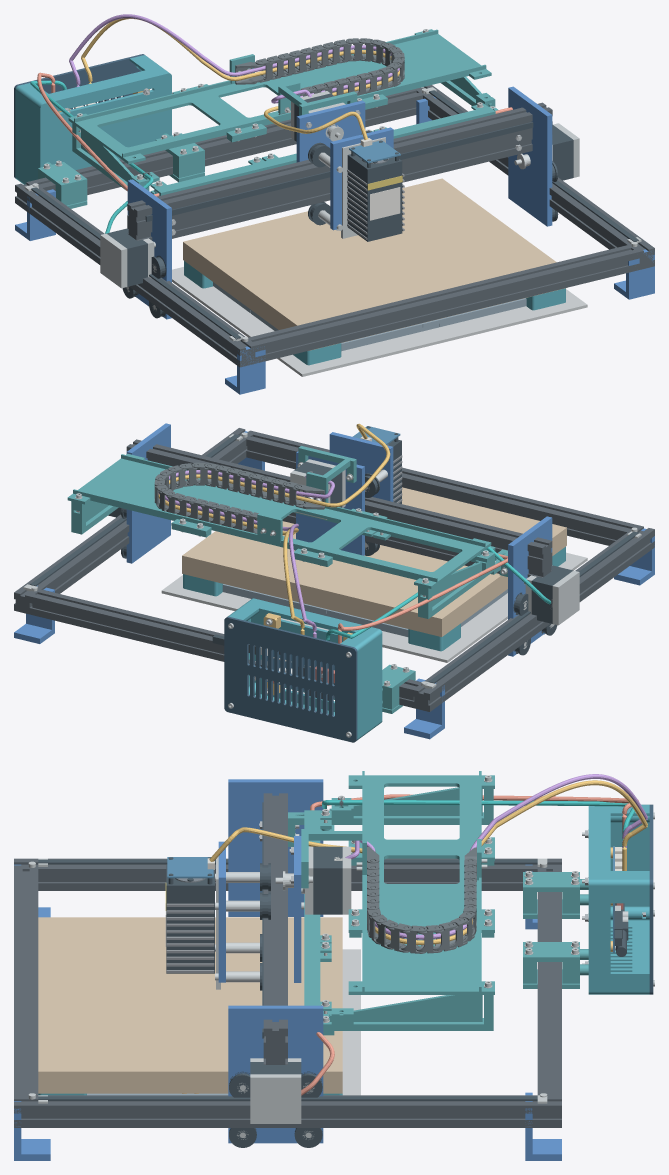
Rendered from assembly-a.glb.
The picture shows the model from 3 angles, top to bottom: view 1: azimuth 30°, elevation 25°; view 2: azimuth 150°, elevation 25°; view 3: azimuth 270°, elevation 25°; orthographic projection. The views are drawn at different scales.
Parts seen in each view (by area): view 1: Material exemplu — 20 mm, Traversă fixă (×2), Traversă mobilă X, 01_carcasa_corp, Șină longitudinală (×2), Bază necombustibilă — reprezentare de poziționare, Placă laterală a traversei (×2), Jgheab X · 1, Jgheab X · 3, Jgheab X · 2, Picior original — aproximat (×3), Motor Y1 (×2) (+22 smaller); view 2: Material exemplu — 20 mm, 02_carcasa_capac, Traversă fixă (×2), Șină longitudinală (×2), Traversă mobilă X, 01_carcasa_corp, Jgheab X · 1, Jgheab X · 3, Placă laterală a traversei (×2), Jgheab X · 2, Bază necombustibilă — reprezentare de poziționare, Consolă nervurată a traversei (×2) (+16 smaller); view 3: Material exemplu — 20 mm, Șină longitudinală (×2), Placă laterală a traversei (×2), Traversă fixă (×2), 01_carcasa_corp, Consolă nervurată a traversei (×2), Jgheab X · 3, Traversă mobilă X, Jgheab X · 2, Jgheab X · 1, Curea Y — traseu fix (×2), Colier demontabil pe profil fix (×2) (+16 smaller).
Part boxes in pixels (x1,y1,x2,y2): Material exemplu — 20 mm: (183, 178, 565, 350); Traversă fixă (×2): (32, 89, 637, 362); Traversă mobilă X: (127, 102, 552, 240); 01_carcasa_corp: (15, 55, 171, 184); Șină longitudinală (×2): (15, 85, 654, 367); Bază necombustibilă — reprezentare de poziționare: (172, 267, 587, 376); Placă laterală a traversei (×2): (127, 86, 552, 319); Jgheab X · 1: (68, 88, 249, 164); Jgheab X · 3: (323, 29, 491, 104); Jgheab X · 2: (190, 54, 370, 134); Picior original — aproximat (×3): (27, 189, 654, 394); Motor Y1 (×2): (100, 228, 147, 288); Material exemplu — 20 mm: (182, 476, 566, 636); 02_carcasa_capac: (224, 616, 357, 742); Traversă fixă (×2): (31, 432, 636, 707); Șină longitudinală (×2): (14, 428, 654, 711); Traversă mobilă X: (126, 439, 552, 577); 01_carcasa_corp: (227, 598, 382, 740); Jgheab X · 1: (310, 513, 491, 588); Jgheab X · 3: (67, 453, 236, 529); Placă laterală a traversei (×2): (126, 423, 552, 656); Jgheab X · 2: (188, 491, 369, 559); Bază necombustibilă — reprezentare de poziționare: (161, 552, 587, 662); Consolă nervurată a traversei (×2): (71, 500, 507, 618); Material exemplu — 20 mm: (38, 917, 342, 1093); Șină longitudinală (×2): (14, 858, 561, 1127); Placă laterală a traversei (×2): (228, 779, 323, 1143); Traversă fixă (×2): (14, 869, 561, 1095); 01_carcasa_corp: (588, 804, 649, 994); Consolă nervurată a traversei (×2): (288, 787, 493, 1030); Jgheab X · 3: (348, 915, 494, 994); Traversă mobilă X: (263, 793, 287, 1064); Jgheab X · 2: (348, 839, 494, 919); Jgheab X · 1: (348, 771, 494, 847); Curea Y — traseu fix (×2): (38, 859, 537, 1100); Colier demontabil pe profil fix (×2): (523, 872, 579, 983).
Size of the model in its own units: 0.53 by 0.1954 by 0.5265.
